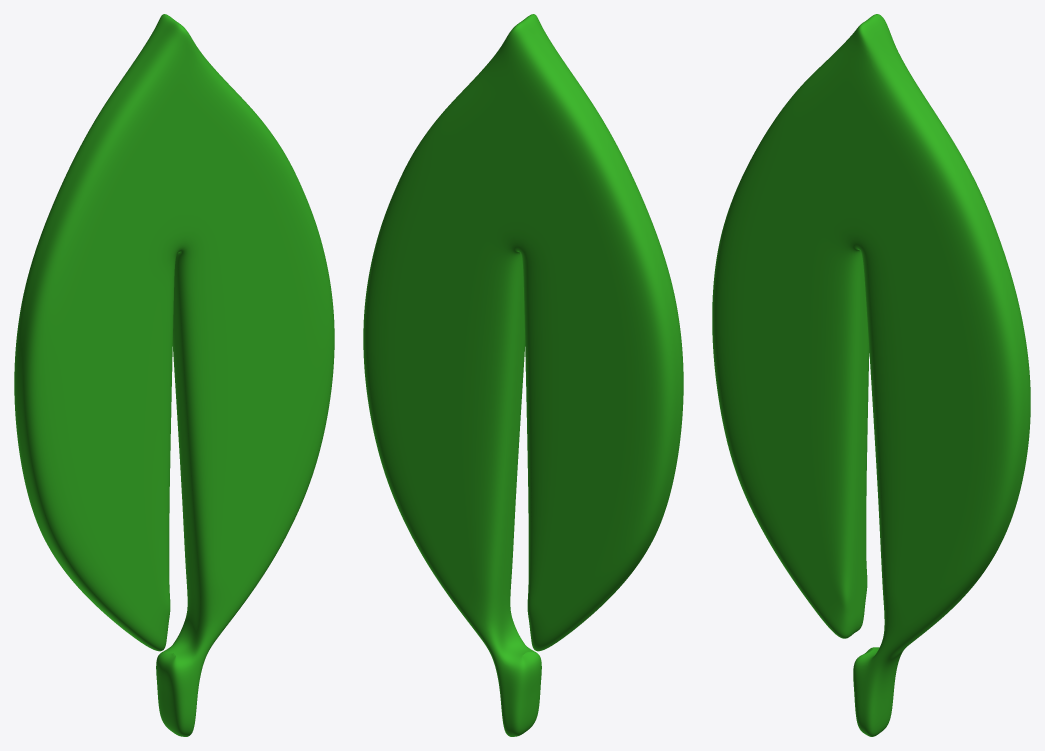
File: mongodb.glb
3 views of the same model, side by side, from view 1: azimuth 30°, elevation 25°; view 2: azimuth 150°, elevation 25°; view 3: azimuth 330°, elevation 25° (orthographic).
Visible parts, largest first — view 1: LOGO_1.001; view 2: LOGO_1.001; view 3: LOGO_1.001.
Boxes of the visible parts, x1,y1,x2,y2 form: LOGO_1.001: (14,14,334,736); LOGO_1.001: (363,14,683,736); LOGO_1.001: (712,14,1030,736).
Size of the model in its own units: 0.4727 by 1.04 by 0.0637.
